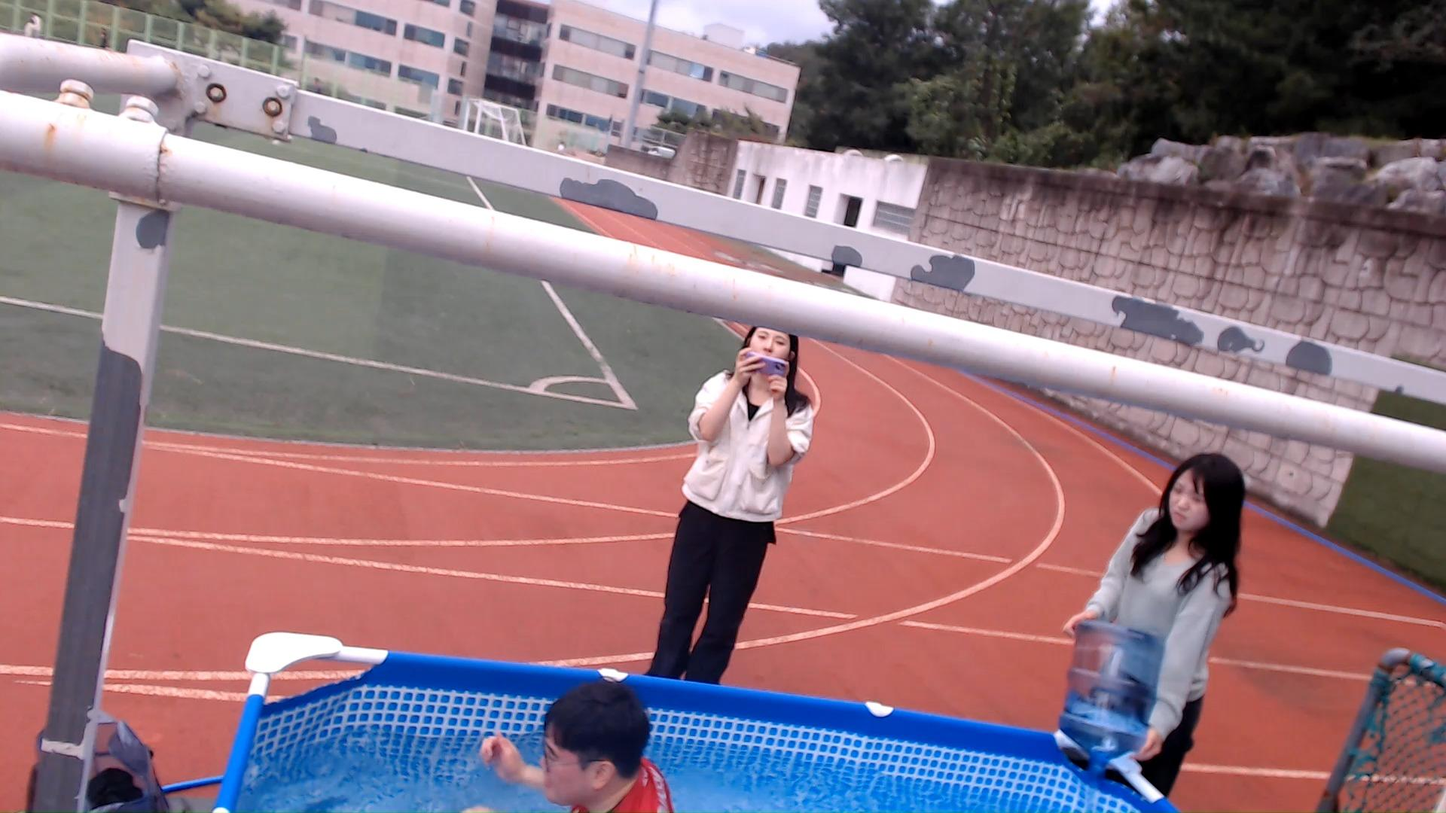Person-out-of-water: (576, 297, 865, 684), (1041, 453, 1266, 782)
Swimming: (433, 672, 725, 813)
